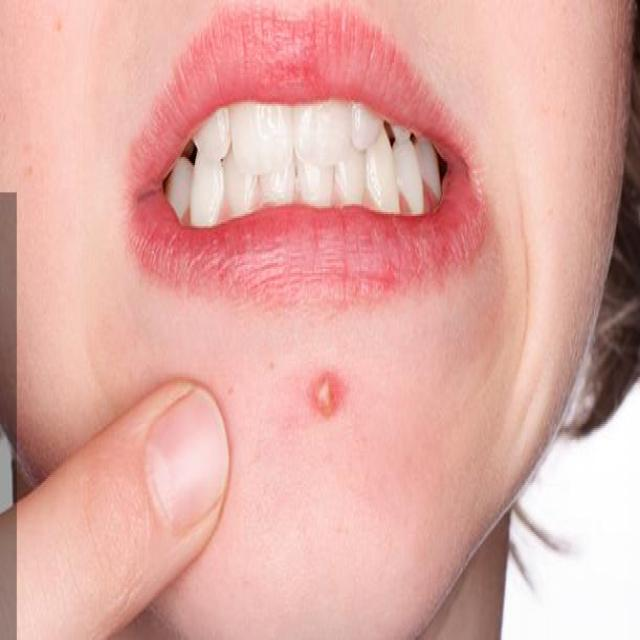blackheads: (312, 369, 340, 418)
